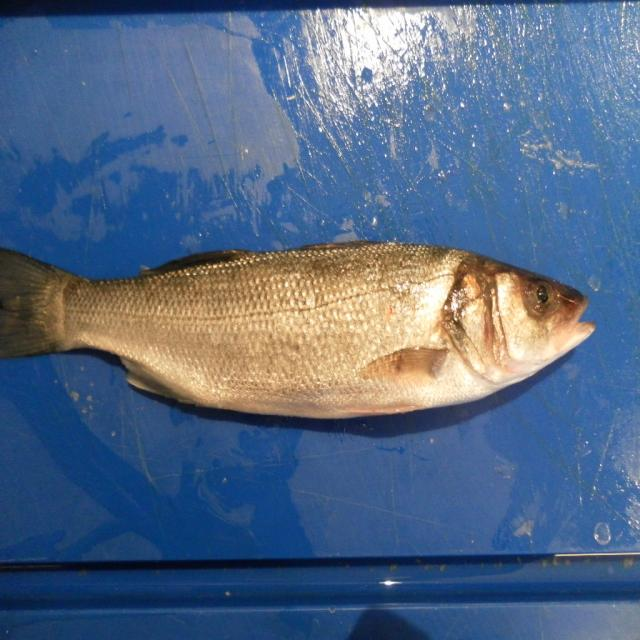Sea-Bass-levrek-: (0, 241, 596, 423)
